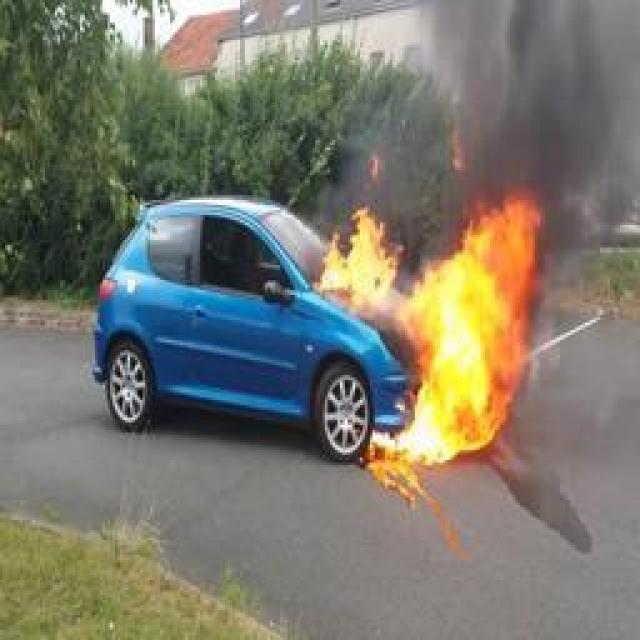Fire: (321, 196, 539, 464)
